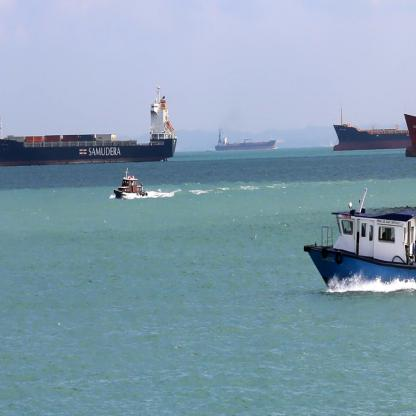Container Ship: (0, 87, 177, 168), (333, 109, 411, 153), (215, 131, 276, 152), (404, 114, 416, 159)
